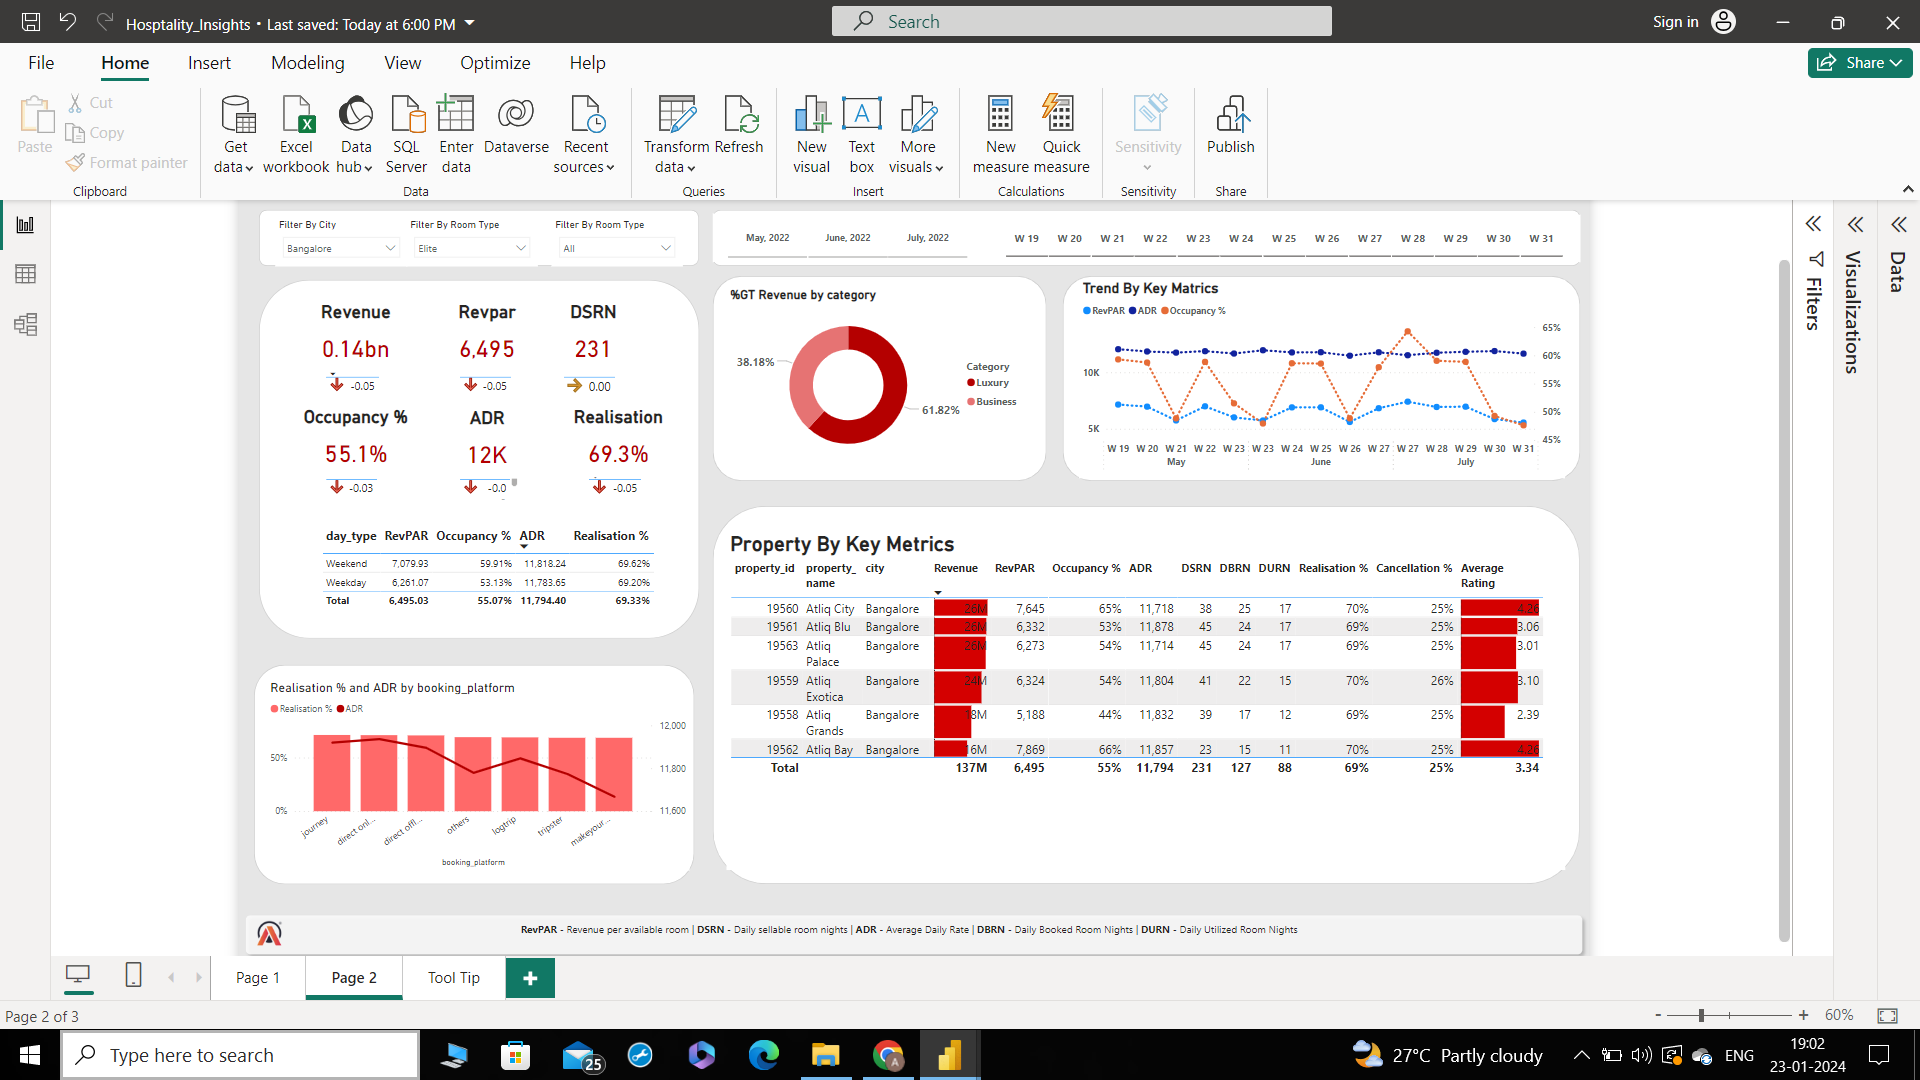

This screenshot's page, from the dashboard's own definition file:
{"tool":"powerbi","page":{"name":"Page 2","canvas":[1800,1100],"ordinal":1},"visuals":[{"type":"shape","box":[0,1016,1800,70],"z":0},{"type":"shape","box":[20,691.4,587.1,292.9],"z":1000},{"type":"shape","box":[632,480,1156,504],"z":2000},{"type":"shape","box":[1098.3,173.3,690,273.3],"z":3000},{"type":"shape","box":[631.7,173.3,445,273.3],"z":4000},{"type":"shape","box":[631.7,85,1156.7,75],"z":5000},{"type":"shape","box":[27.1,178.6,587.1,478.6],"z":6000},{"type":"shape","box":[26.7,85,586.7,75],"z":7000},{"type":"tableEx","title":"Property By Key Metrics","fields":{"Values":["dim_hotels.property_id","dim_hotels.property_name","dim_hotels.city","key_measures (2).Revenue","key_measures (2).RevPAR","key_measures (2).Occupancy %","key_measures (2).ADR","key_measures (2).DSRN","key_measures (2).DBRN","key_measures (2).DURN","key_measures (2).Realisation %","key_measures (2).Cancellation %"]},"box":[650,515.7,1118.6,450],"z":8000},{"type":"slicer","title":"Filter By City","fields":{"Values":["dim_hotels.city"]},"box":[48,96,176,64],"z":9000},{"type":"slicer","title":"Filter By Room Type","fields":{"Values":["dim_rooms.room_class"]},"box":[417,96,175,64],"z":10000},{"type":"slicer","fields":{"Values":["dim_date.mmm yy"]},"box":[631.7,90,358.3,65],"z":11000},{"type":"slicer","fields":{"Values":["dim_date.week no"]},"box":[996.7,91.7,791.7,63.3],"z":12000},{"type":"tableEx","fields":{"Values":["key_measures (2).\"Revenue WoW change %"]},"box":[110.8,281.5,88.5,57.7],"z":13000},{"type":"donutChart","fields":{"Category":["dim_hotels.category"],"Y":["key_measures (2).Revenue"]},"box":[650,188.3,405,241.7],"z":14000},{"type":"lineStackedColumnComboChart","fields":{"Category":["fact_bookings.booking_platform"],"Y":["key_measures (2).Realisation %"],"Y2":["key_measures (2).ADR"]},"box":[37.1,711.4,564.3,254.3],"z":15000},{"type":"lineChart","title":"Trend By Key Matrics","fields":{"Category":["dim_date.mmm yy.Variation.Date Hierarchy.Month","dim_date.week no"],"Y2":["key_measures (2).Occupancy %"],"Y":["key_measures (2).RevPAR","key_measures (2).ADR"]},"box":[1120,178.3,648.3,265],"z":16000},{"type":"tableEx","fields":{"Values":["dim_date.day_type","key_measures (2).RevPAR","key_measures (2).Occupancy %","key_measures (2).ADR","key_measures (2).Realisation %"]},"box":[105,500,455,126.7],"z":17000},{"type":"slicer","title":"Filter By Room Type","fields":{"Values":["dim_rooms.room_class"]},"box":[224,96,175,64],"z":18000},{"type":"image","box":[0,1028,81.3,42.7],"z":20000},{"type":"textbox","box":[345,1029.6,1093.6,39],"z":21000},{"type":"tableEx","fields":{"Values":["key_measures (2).\"DSRN WoW change %"]},"box":[426.9,281.5,88.5,56.2],"z":22000},{"type":"tableEx","fields":{"Values":["key_measures (2).\"Revpar WoW change %"]},"box":[287.7,281.5,89.2,55.4],"z":23000},{"type":"card","title":"DSRN","fields":{"Values":["key_measures (2).DSRN"]},"box":[384.3,206.8,175,95],"z":24000},{"type":"card","title":"Revpar","fields":{"Values":["key_measures (2).RevPAR"]},"box":[242.7,206.5,175,95],"z":25000},{"type":"card","title":"Revenue","fields":{"Values":["key_measures (2).Revenue"]},"box":[67.7,206.5,175,95],"z":26000},{"type":"tableEx","fields":{"Values":["key_measures (2).\"Occupancy WoW change %"]},"box":[110.8,417.7,88.5,57.7],"z":27000},{"type":"card","title":"Occupancy %","fields":{"Values":["key_measures (2).Occupancy %"]},"box":[67.7,347.5,175,95],"z":28000},{"type":"tableEx","fields":{"Values":["key_measures (2).\"ADR WoW change %"]},"box":[287.7,417.7,88.5,57.7],"z":29000},{"type":"tableEx","fields":{"Values":["key_measures (2).\"Revenue WoW change %"]},"box":[460,418.5,88.5,57.7],"z":30000},{"type":"card","title":"ADR","fields":{"Values":["key_measures (2).ADR"]},"box":[242.7,348.5,175,95],"z":31000},{"type":"card","title":"Realisation","fields":{"Values":["key_measures (2).Realisation %"]},"box":[417.7,347.5,175,95],"z":31500}]}

Visuals, with their boxes on the page's 1800x1100 design canvas (x1, y1, x2, y2). These are canvas units, not pixel positions in the 1920x1080 screenshot, which may show the page scaled, cropped or inside an application window:
shape: 0/1016/1800/1086
shape: 20/691/607/984
shape: 632/480/1788/984
shape: 1098/173/1788/447
shape: 632/173/1077/447
shape: 632/85/1788/160
shape: 27/179/614/657
shape: 27/85/613/160
"Property By Key Metrics" tableEx: 650/516/1769/966
"Filter By City" slicer: 48/96/224/160
"Filter By Room Type" slicer: 417/96/592/160
slicer - dim_date.mmm yy: 632/90/990/155
slicer - dim_date.week no: 997/92/1788/155
tableEx - key_measures (2)."Revenue WoW change %: 111/282/199/339
donutChart - dim_hotels.category x key_measures (2).Revenue: 650/188/1055/430
lineStackedColumnComboChart - fact_bookings.booking_platform x key_measures (2).Realisation %: 37/711/601/966
"Trend By Key Matrics" lineChart: 1120/178/1768/443
tableEx - dim_date.day_type x key_measures (2).RevPAR: 105/500/560/627
"Filter By Room Type" slicer: 224/96/399/160
image: 0/1028/81/1071
textbox: 345/1030/1439/1069
tableEx - key_measures (2)."DSRN WoW change %: 427/282/515/338
tableEx - key_measures (2)."Revpar WoW change %: 288/282/377/337
"DSRN" card: 384/207/559/302
"Revpar" card: 243/206/418/302
"Revenue" card: 68/206/243/302
tableEx - key_measures (2)."Occupancy WoW change %: 111/418/199/475
"Occupancy %" card: 68/348/243/442
tableEx - key_measures (2)."ADR WoW change %: 288/418/376/475
tableEx - key_measures (2)."Revenue WoW change %: 460/418/548/476
"ADR" card: 243/348/418/444
"Realisation" card: 418/348/593/442
